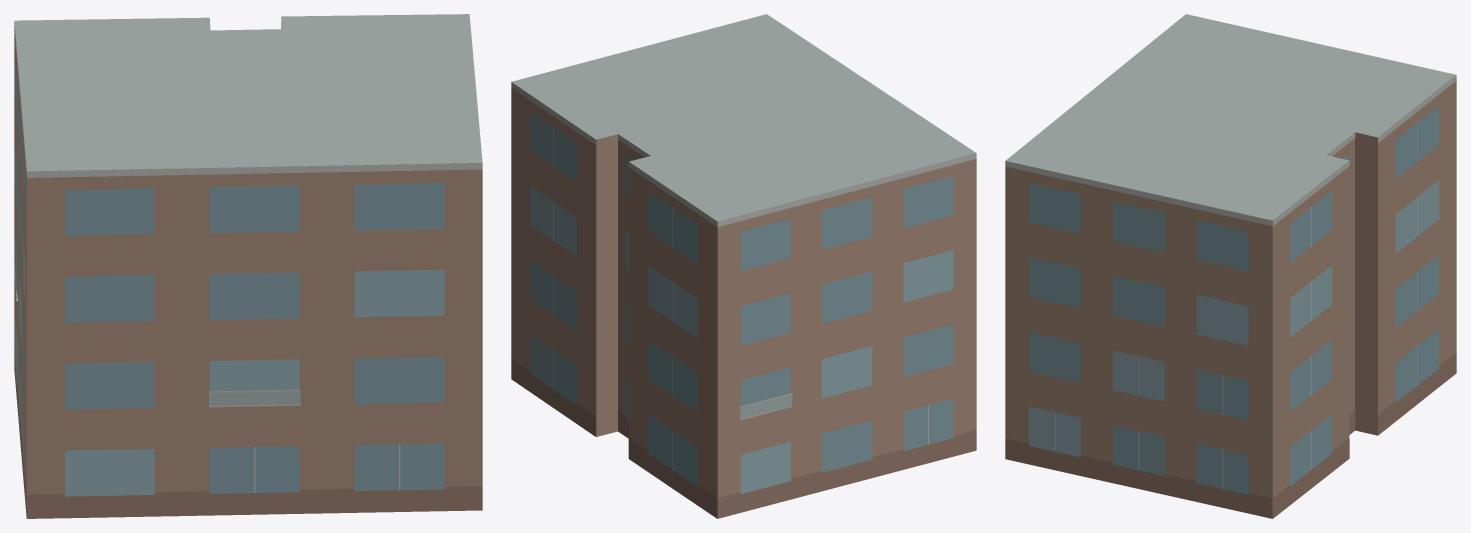
File: survey-upis-32657754.glb
3 renders of one model, left to right at view 1: azimuth 30°, elevation 25°; view 2: azimuth 150°, elevation 25°; view 3: azimuth 270°, elevation 25°, orthographic. The views are drawn at different scales.
Parts seen in each view (by area): view 1: survey-upis-32657754.tmp; view 2: survey-upis-32657754.tmp; view 3: survey-upis-32657754.tmp.
Part boxes in pixels (left/top/right/bottom): survey-upis-32657754.tmp: left=14, top=14, right=482, bottom=518; survey-upis-32657754.tmp: left=511, top=14, right=976, bottom=518; survey-upis-32657754.tmp: left=1005, top=14, right=1456, bottom=518.
Bounding box in the file's own units: 19.02 × 12.8 × 17.56.
